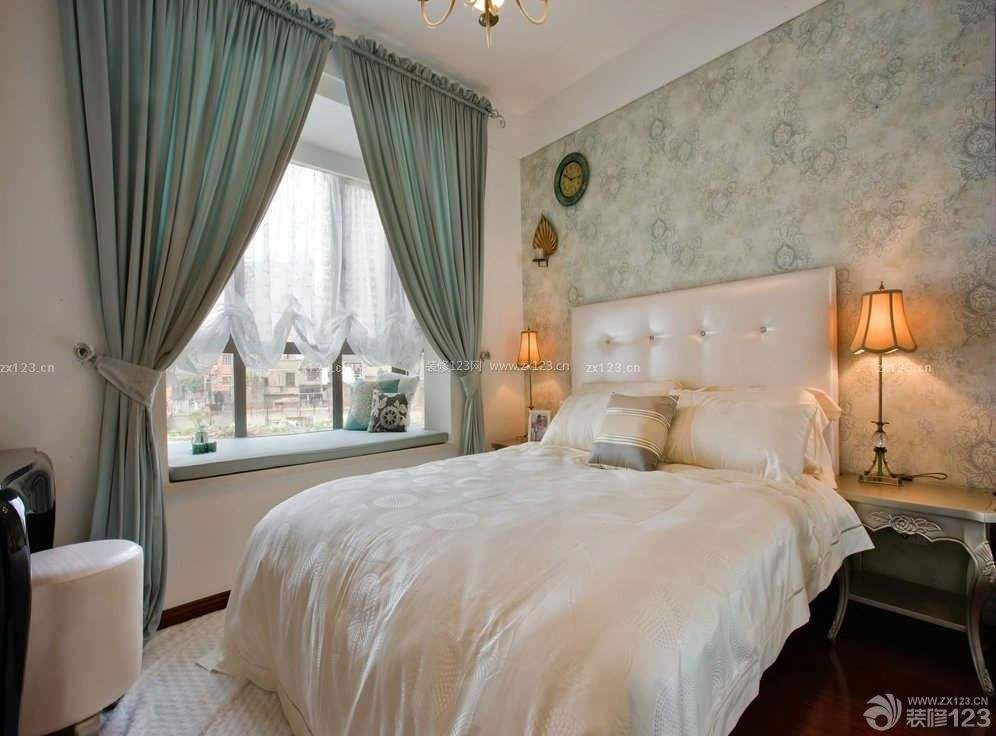床: (176, 438, 874, 719)
枕头: (551, 383, 841, 476)
灯: (853, 289, 920, 488), (409, 2, 552, 44), (509, 329, 555, 439)
